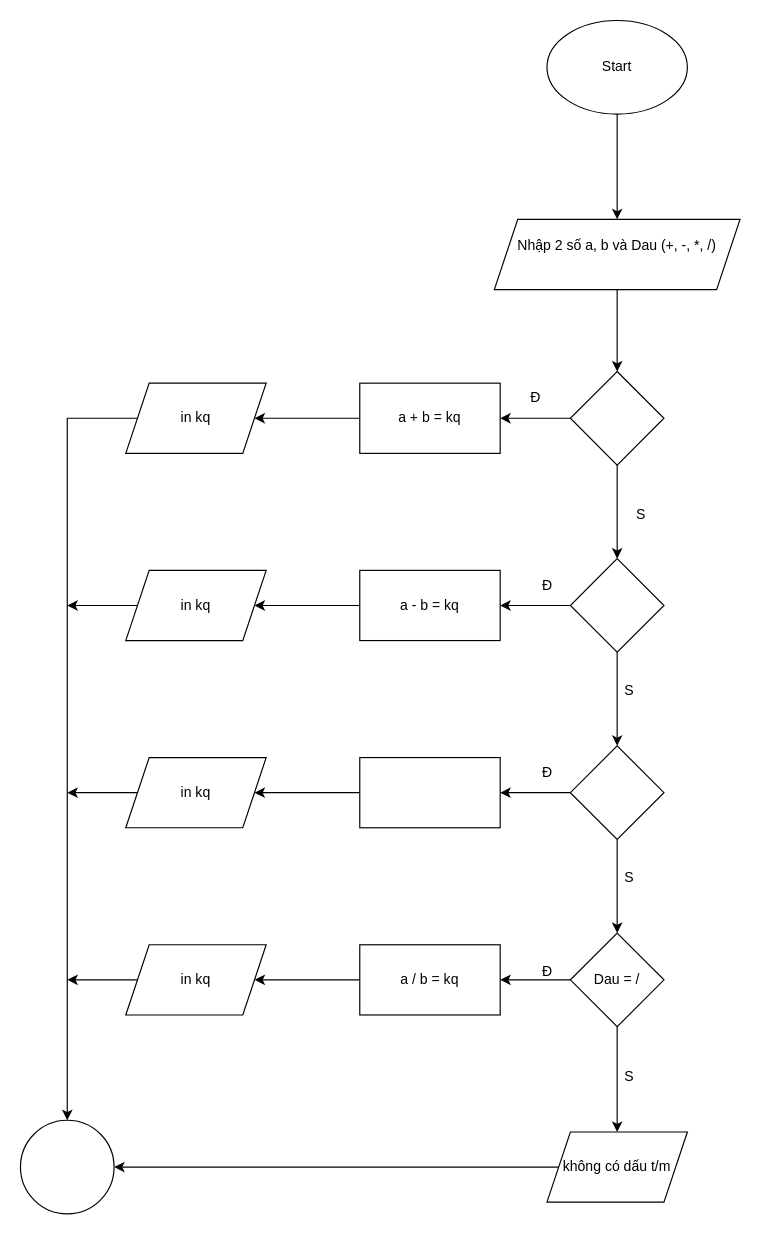
The diagram is 761 pixels wide and 1234 high, and some of its shapes have lost their labels. Each missing label, with the box of its shape:
a * b = kq: (359, 756, 500, 828)
Dau = *: (569, 745, 664, 839)
Dau = +: (569, 370, 664, 465)
Dau = -: (569, 558, 664, 652)
End: (19, 1119, 114, 1214)
